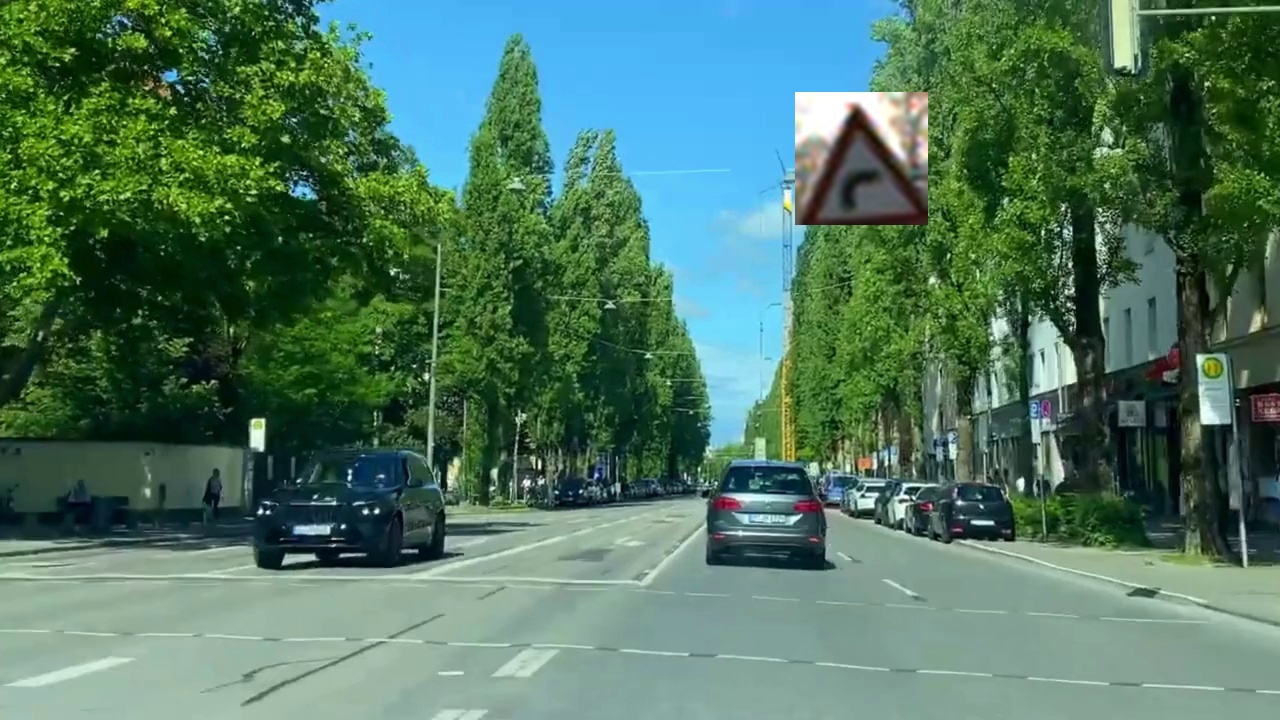Curve right: (795, 92, 928, 225)
